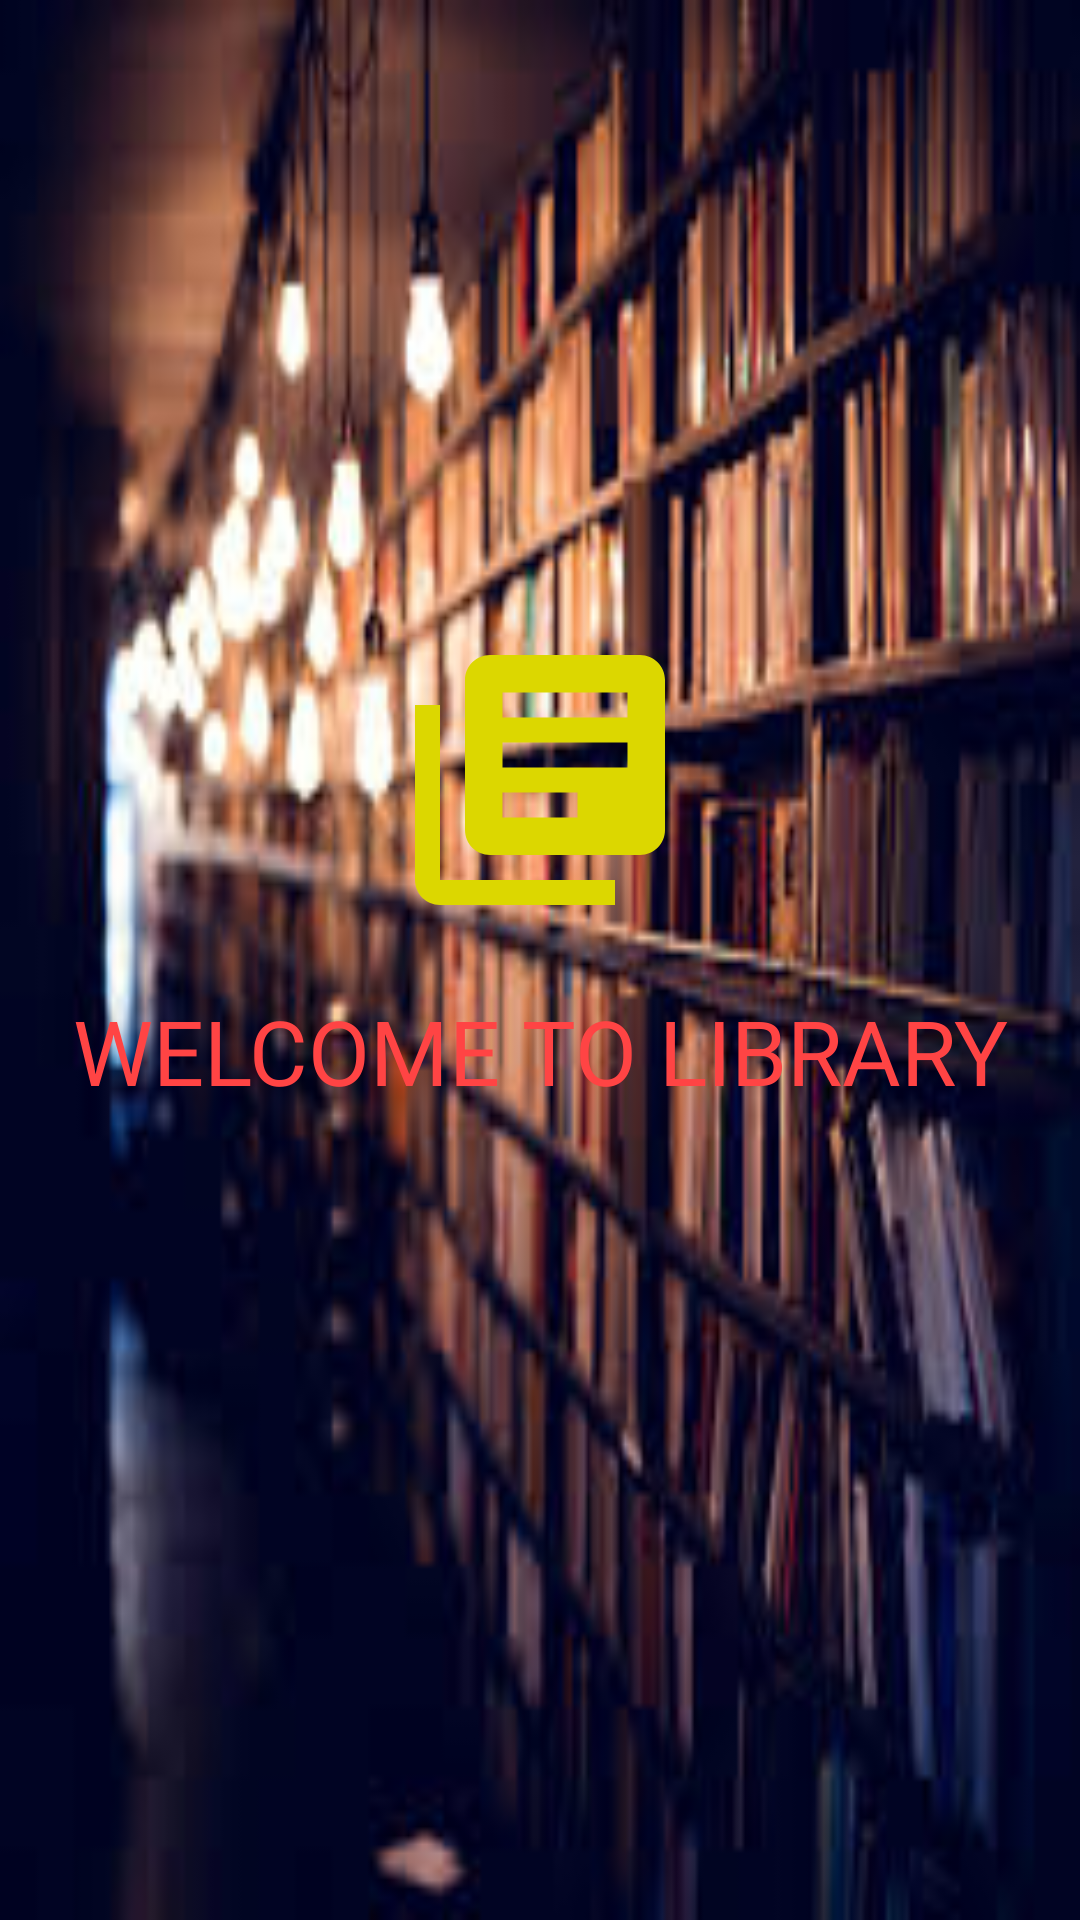

Icons on this 1080px x 1920px Android screen, each with the point to tap as [x,y]:
library books: [540,780]
